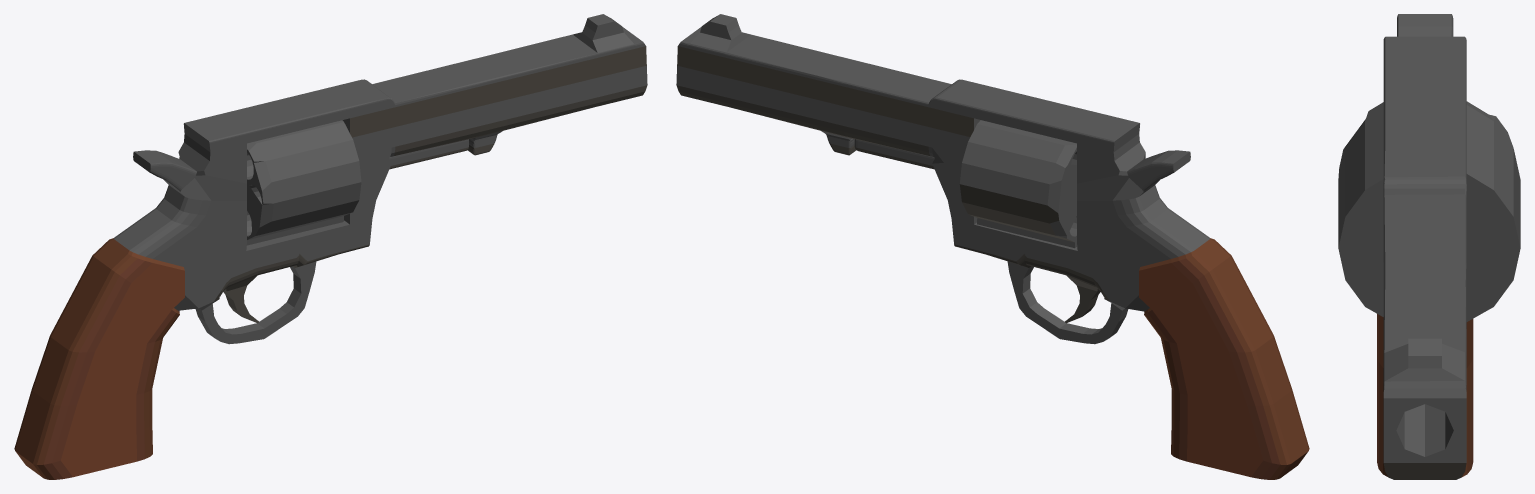
The model's file is Revovler.fbx.
3 renders of one model, left to right at view 1: azimuth 30°, elevation 25°; view 2: azimuth 150°, elevation 25°; view 3: azimuth 270°, elevation 25°, orthographic. The views are drawn at different scales.
Visible parts, largest first — view 1: Revolver Ammo; view 2: Revolver Ammo; view 3: Revolver Ammo.
Part boxes in pixels (x1=…): Revolver Ammo: x1=14, y1=14, x2=647, y2=479; Revolver Ammo: x1=676, y1=14, x2=1309, y2=479; Revolver Ammo: x1=1338, y1=14, x2=1520, y2=479.
Size of the model in its own units: 68.87 by 33.86 by 11.05.
